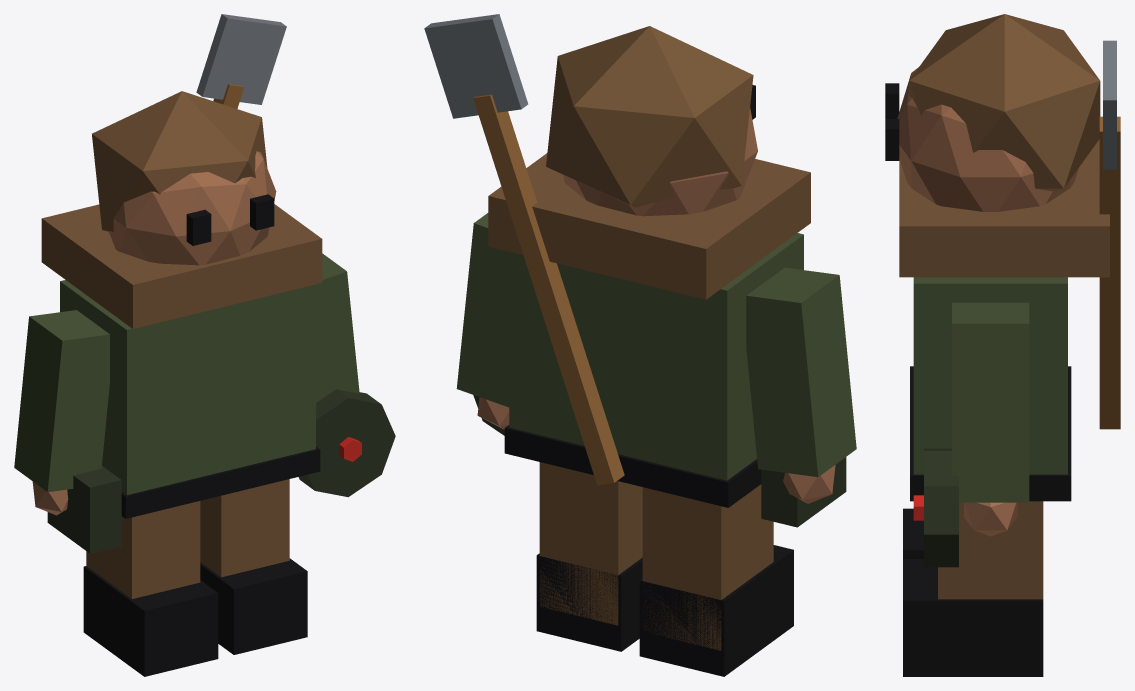
The model's file is Org Trampero.fbx.
3 views of the same model, side by side, from view 1: azimuth 30°, elevation 25°; view 2: azimuth 150°, elevation 25°; view 3: azimuth 270°, elevation 25° (orthographic). The views are drawn at different scales.
Visible parts, largest first — view 1: Org Trampero; view 2: Org Trampero; view 3: Org Trampero.
Boxes of the visible parts, box(x1,y1,x2,y2) form: Org Trampero: box(14, 14, 395, 676); Org Trampero: box(424, 14, 856, 676); Org Trampero: box(885, 14, 1120, 676).
Bounding box in the file's own units: 0.6388 × 1.01 × 0.335.
